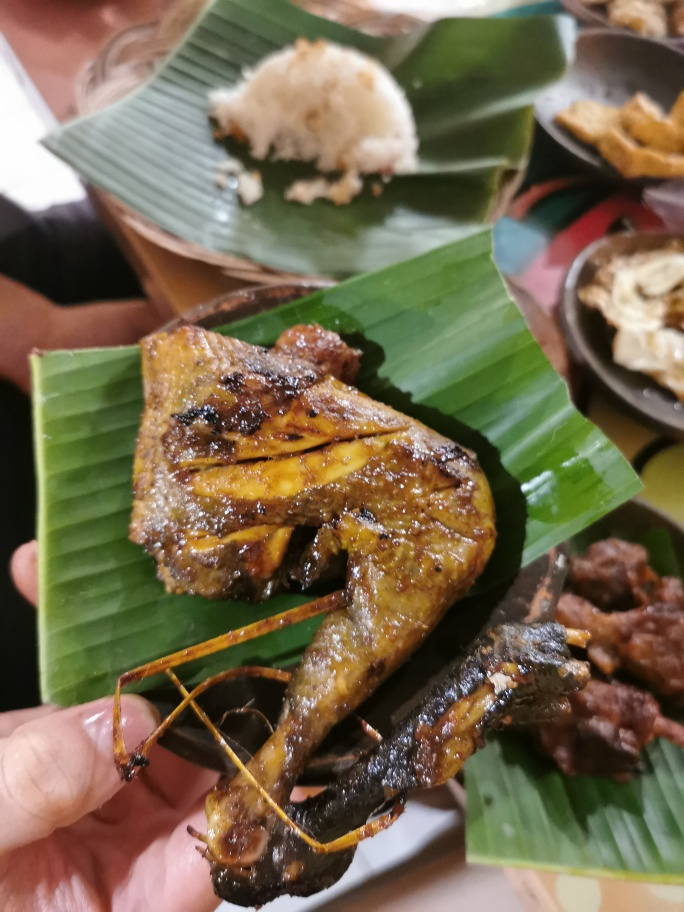ayam bakar: (140, 324, 591, 885)
